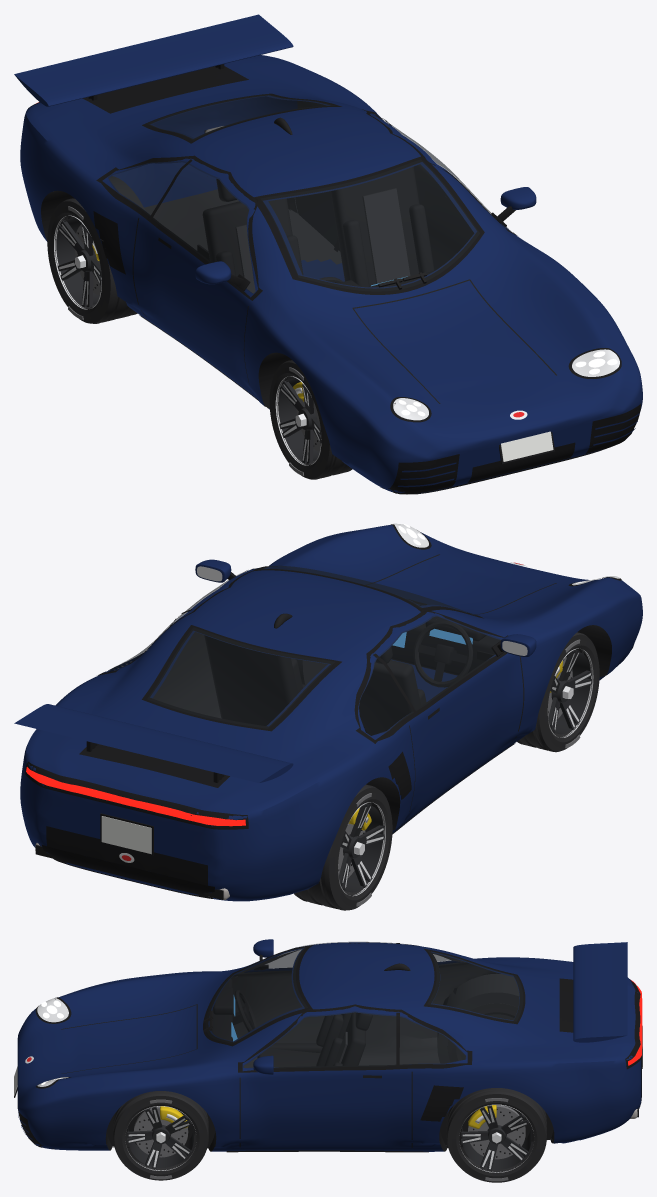
The model's file is turbos.glb.
3 renders of one model, top to bottom at view 1: azimuth 30°, elevation 25°; view 2: azimuth 150°, elevation 25°; view 3: azimuth 270°, elevation 25°, orthographic. The views are drawn at different scales.
Parts seen in each view (by area): view 1: Body, Wheel_RR, Wheel_FR; view 2: Body, Wheel_RR, Wheel_FR; view 3: Body, Wheel_RL, Wheel_FL, Wheel_RR.
Part boxes in pixels (left/top/right/bottom): Body: left=14, top=14, right=642, bottom=494; Wheel_RR: left=47, top=198, right=137, bottom=323; Wheel_FR: left=269, top=360, right=352, bottom=479; Body: left=14, top=523, right=642, bottom=901; Wheel_RR: left=294, top=784, right=392, bottom=910; Wheel_FR: left=517, top=632, right=599, bottom=752; Body: left=14, top=939, right=642, bottom=1152; Wheel_RL: left=446, top=1088, right=546, bottom=1182; Wheel_FL: left=113, top=1091, right=208, bottom=1180; Wheel_RR: left=447, top=1003, right=517, bottom=1062.
Size of the model in its own units: 2.22 by 1.35 by 4.61.
